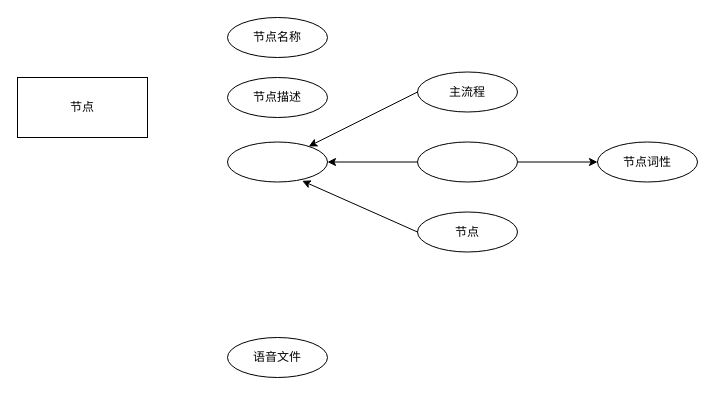
The diagram is 715 pixels wide and 395 high, and some of its shapes have lost their labels. Here are the shapes that lost their labels. From the top down, the box of each, then its label:
(226, 141, 328, 182): 节点类型
(416, 141, 518, 182): 子流程
